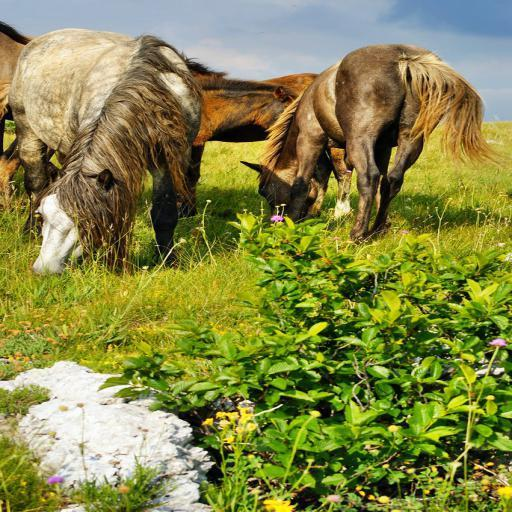horse: (240, 42, 512, 244), (6, 30, 206, 280), (0, 77, 298, 215), (182, 60, 358, 218), (0, 24, 36, 113)
